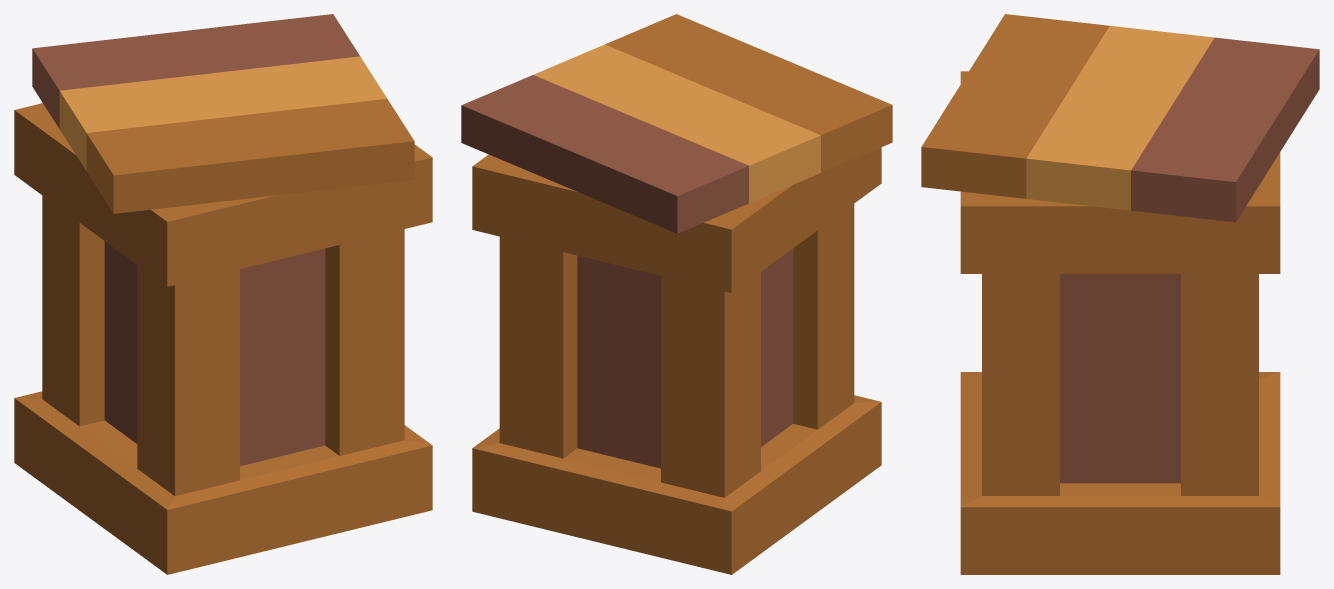
File: box_w_cap.fbx
The picture shows the model from 3 angles, left to right: view 1: azimuth 30°, elevation 25°; view 2: azimuth 150°, elevation 25°; view 3: azimuth 270°, elevation 25°; orthographic projection. The views are drawn at different scales.
Visible parts, largest first — view 1: box_w_cap; view 2: box_w_cap; view 3: box_w_cap.
Boxes of the visible parts, x1,y1,x2,y2 form: box_w_cap: [14, 14, 432, 574]; box_w_cap: [461, 14, 892, 574]; box_w_cap: [921, 14, 1319, 574].
Bounding box in the file's own units: 64.92 × 73.67 × 64.92.
